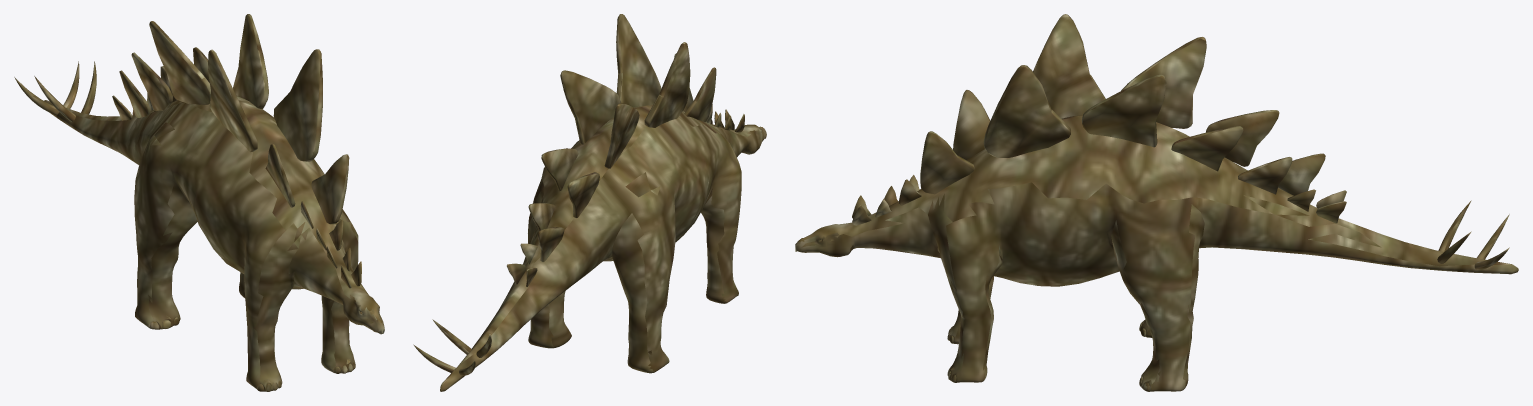
File: dino3.obj
3 views of the same model, side by side, from view 1: azimuth 30°, elevation 25°; view 2: azimuth 150°, elevation 25°; view 3: azimuth 270°, elevation 25° (orthographic). The views are drawn at different scales.
Visible parts, largest first — view 1: stego_body; view 2: stego_body; view 3: stego_body.
Boxes of the visible parts, x1=… form: stego_body: x1=14, y1=14, x2=384, y2=391; stego_body: x1=413, y1=14, x2=766, y2=391; stego_body: x1=795, y1=14, x2=1518, y2=391.
Size of the model in its own units: 0.4409 by 0.9212 by 1.87.
Materials: 1 (1 with a texture image).
